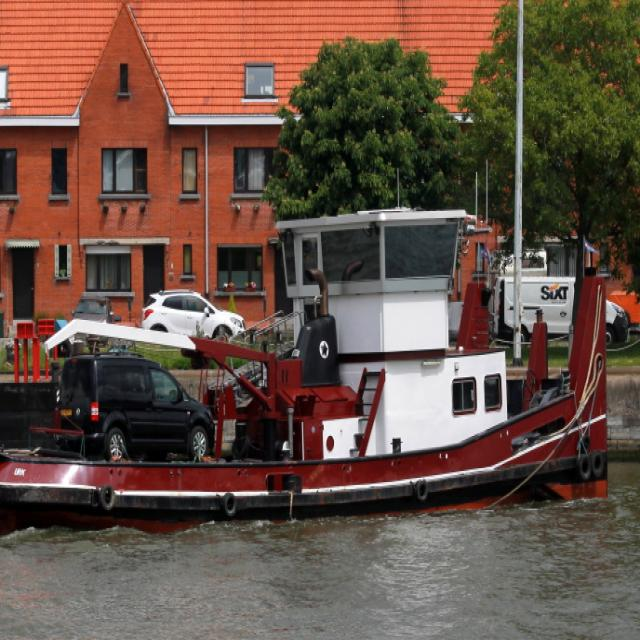tugboat: (1, 201, 617, 551)
